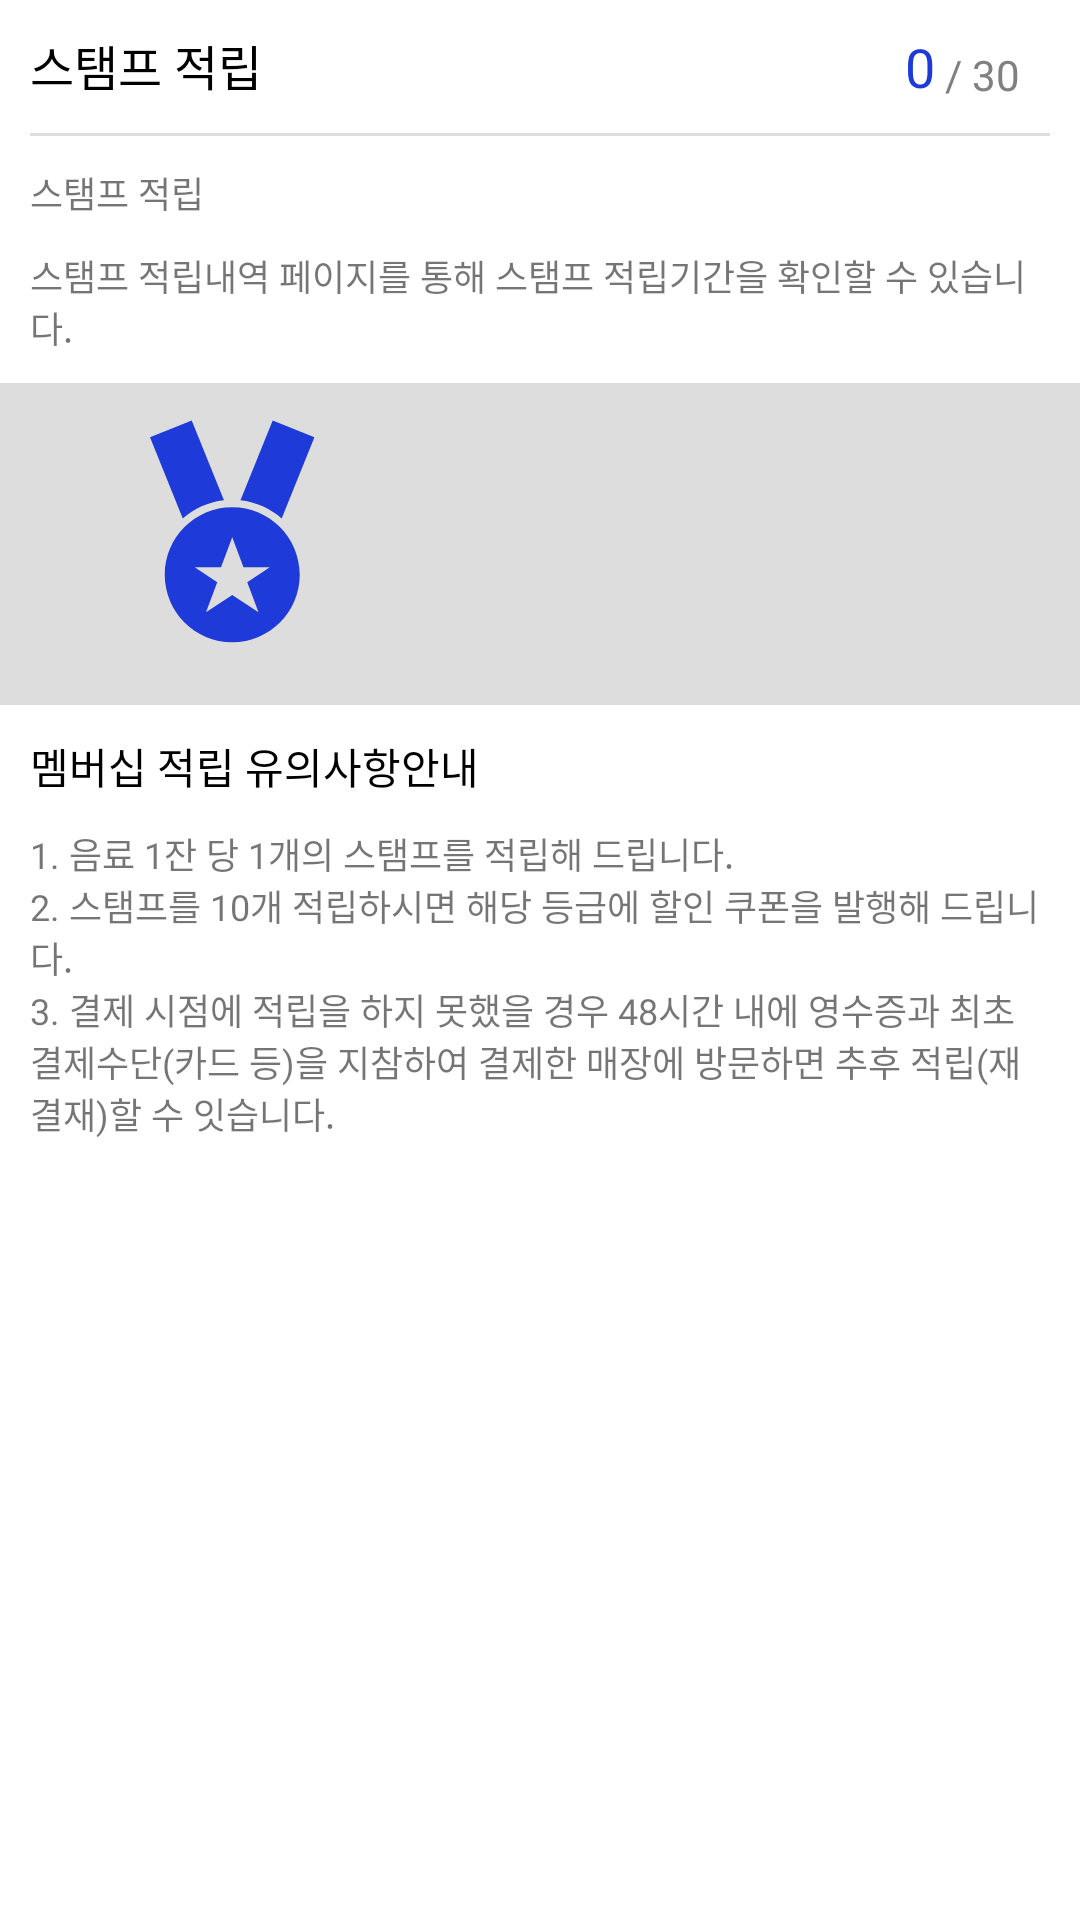

Icon bounding boxes for this 1080w x 1920h phone screenshot, format (x1, y1, x2, y2):
medal: (150, 420, 315, 643)
